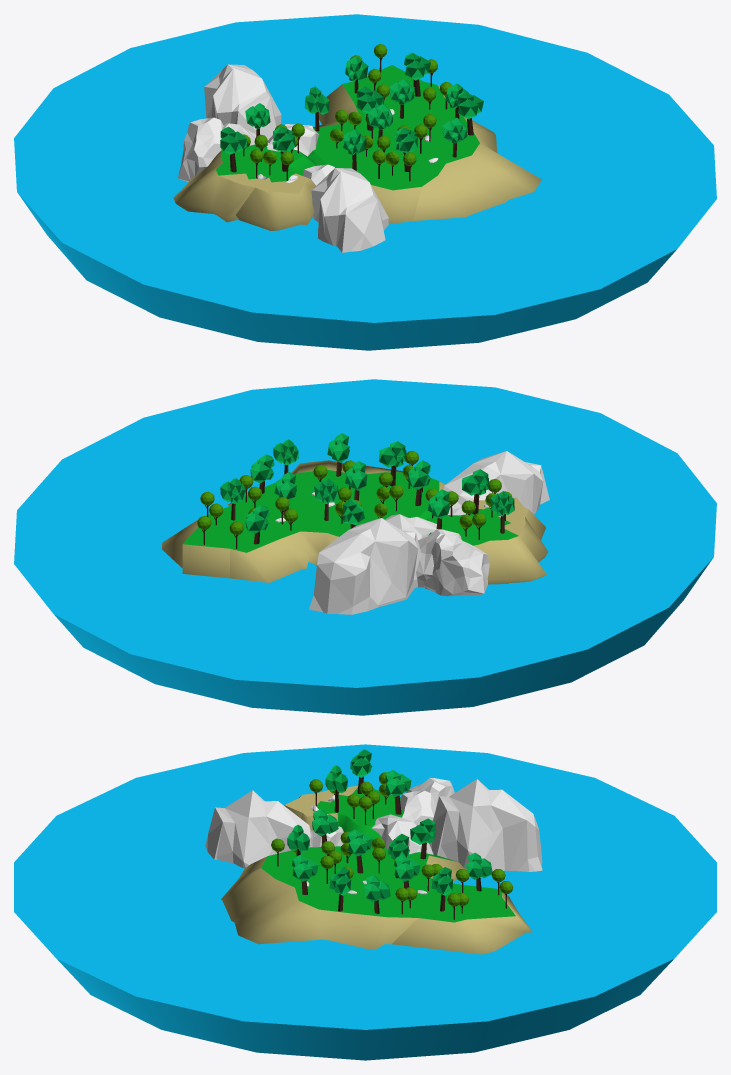
File: Island_1220.gltf
3 views of the same model, one above another, from view 1: azimuth 30°, elevation 25°; view 2: azimuth 150°, elevation 25°; view 3: azimuth 270°, elevation 25° (orthographic). The views are drawn at different scales.
Visible parts, largest first — view 1: node-0; view 2: node-0; view 3: node-0.
Part boxes in pixels (left/top/right/bottom): node-0: left=14, top=14, right=716, bottom=350; node-0: left=14, top=379, right=716, bottom=715; node-0: left=14, top=744, right=716, bottom=1060.
Bounding box in the file's own units: 364 × 76.34 × 379.
